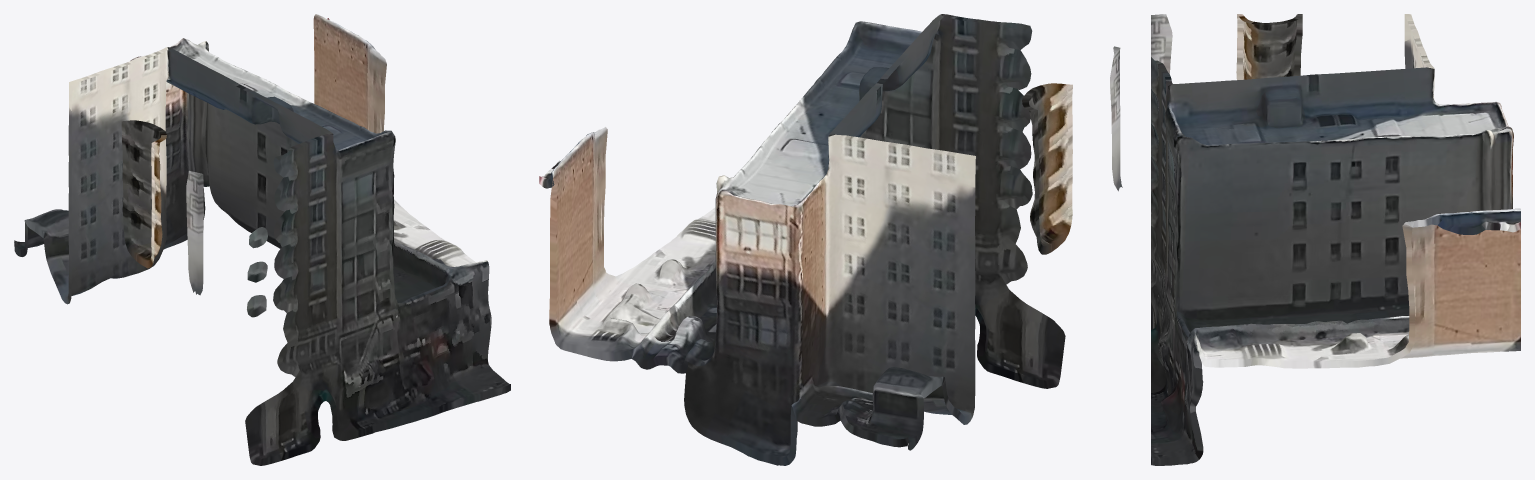
Rendered from z20-167746-405245-h0-yup-uvflip-v3-world.glb.
3 views of the same model, side by side, from view 1: azimuth 30°, elevation 25°; view 2: azimuth 150°, elevation 25°; view 3: azimuth 270°, elevation 25° (orthographic). The views are drawn at different scales.
Size of the model in its own units: 30.2 by 28.08 by 30.32.
Materials: 1 (1 with a texture image).
